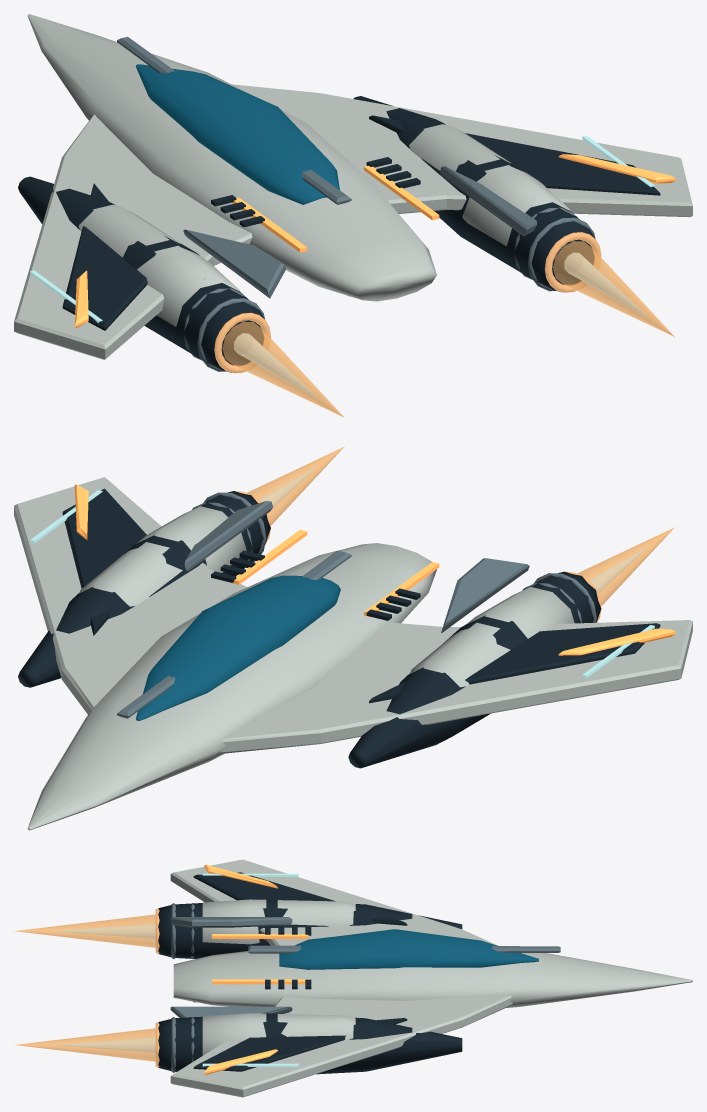
The model's file is kestrel-nx01.glb.
The picture shows the model from 3 angles, top to bottom: view 1: azimuth 30°, elevation 25°; view 2: azimuth 150°, elevation 25°; view 3: azimuth 270°, elevation 25°; orthographic projection. The views are drawn at different scales.
Parts seen in each view (by area): view 1: Kestrel_NX01; view 2: Kestrel_NX01; view 3: Kestrel_NX01.
Boxes of the visible parts, left/top/right/bottom form: Kestrel_NX01: left=14, top=14, right=692, bottom=417; Kestrel_NX01: left=14, top=446, right=692, bottom=830; Kestrel_NX01: left=14, top=859, right=692, bottom=1097.
Bounding box in the file's own units: 28.28 × 4.65 × 35.3.
